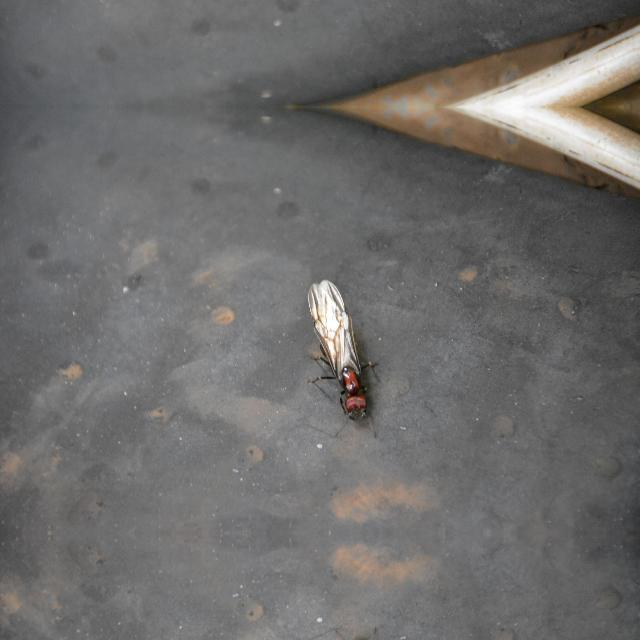Messor: (310, 318, 386, 432)
